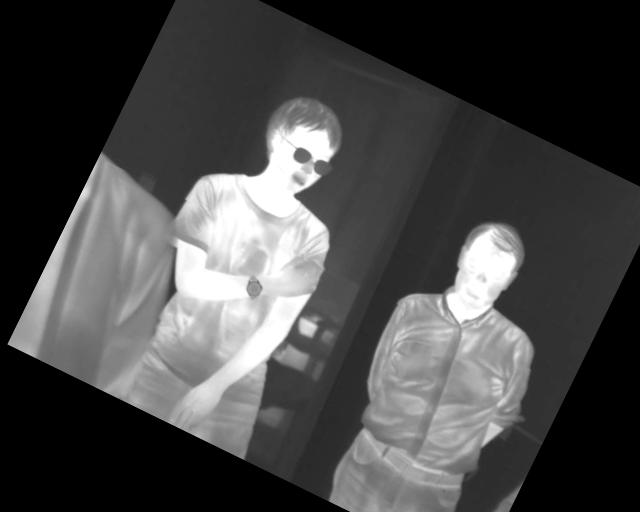face: (243, 84, 355, 205), (438, 208, 538, 323)
